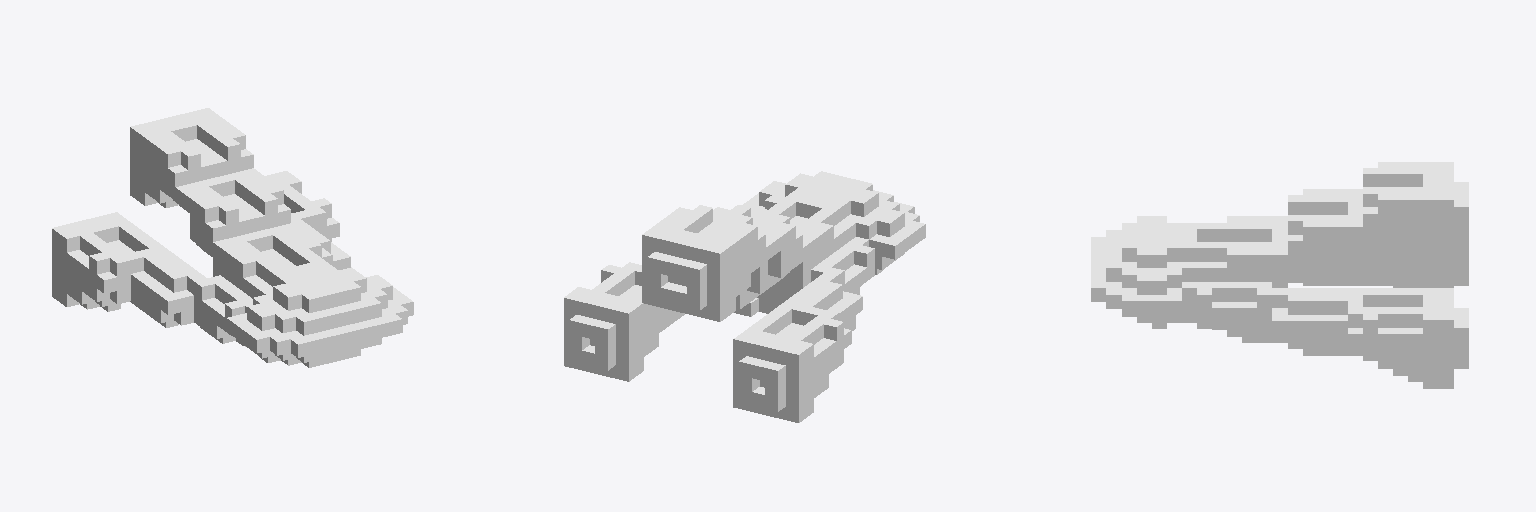
The model's file is VAN.obj.
3 renders of one model, left to right at view 1: azimuth 30°, elevation 25°; view 2: azimuth 150°, elevation 25°; view 3: azimuth 270°, elevation 25°, orthographic.
Parts seen in each view (by area): view 1: object 1; view 2: object 1; view 3: object 1.
Boxes of the visible parts, x1,y1,x2,y2 form: object 1: [52, 108, 413, 367]; object 1: [564, 171, 925, 422]; object 1: [1091, 162, 1468, 388].
Size of the model in its own units: 1.8 by 1.1 by 2.5.